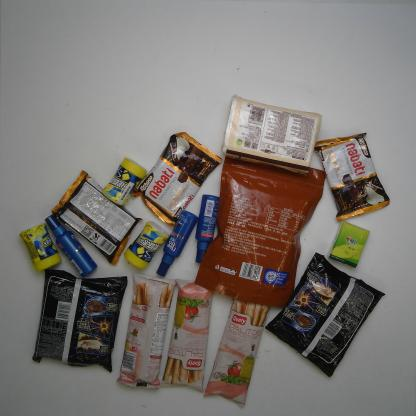Dessert: (130, 129, 223, 229), (49, 169, 144, 264), (202, 294, 271, 410), (312, 131, 392, 221), (117, 274, 176, 391), (160, 278, 217, 394)
Dried Food: (192, 149, 326, 309)
Gum: (123, 221, 170, 270), (102, 158, 146, 207), (19, 225, 62, 272)
Instant Noodles: (264, 253, 387, 380), (31, 268, 127, 372)
Personal Hygiene: (43, 214, 98, 278), (154, 209, 198, 277), (195, 194, 220, 266)
Tissue: (219, 93, 322, 177), (328, 221, 370, 267)
